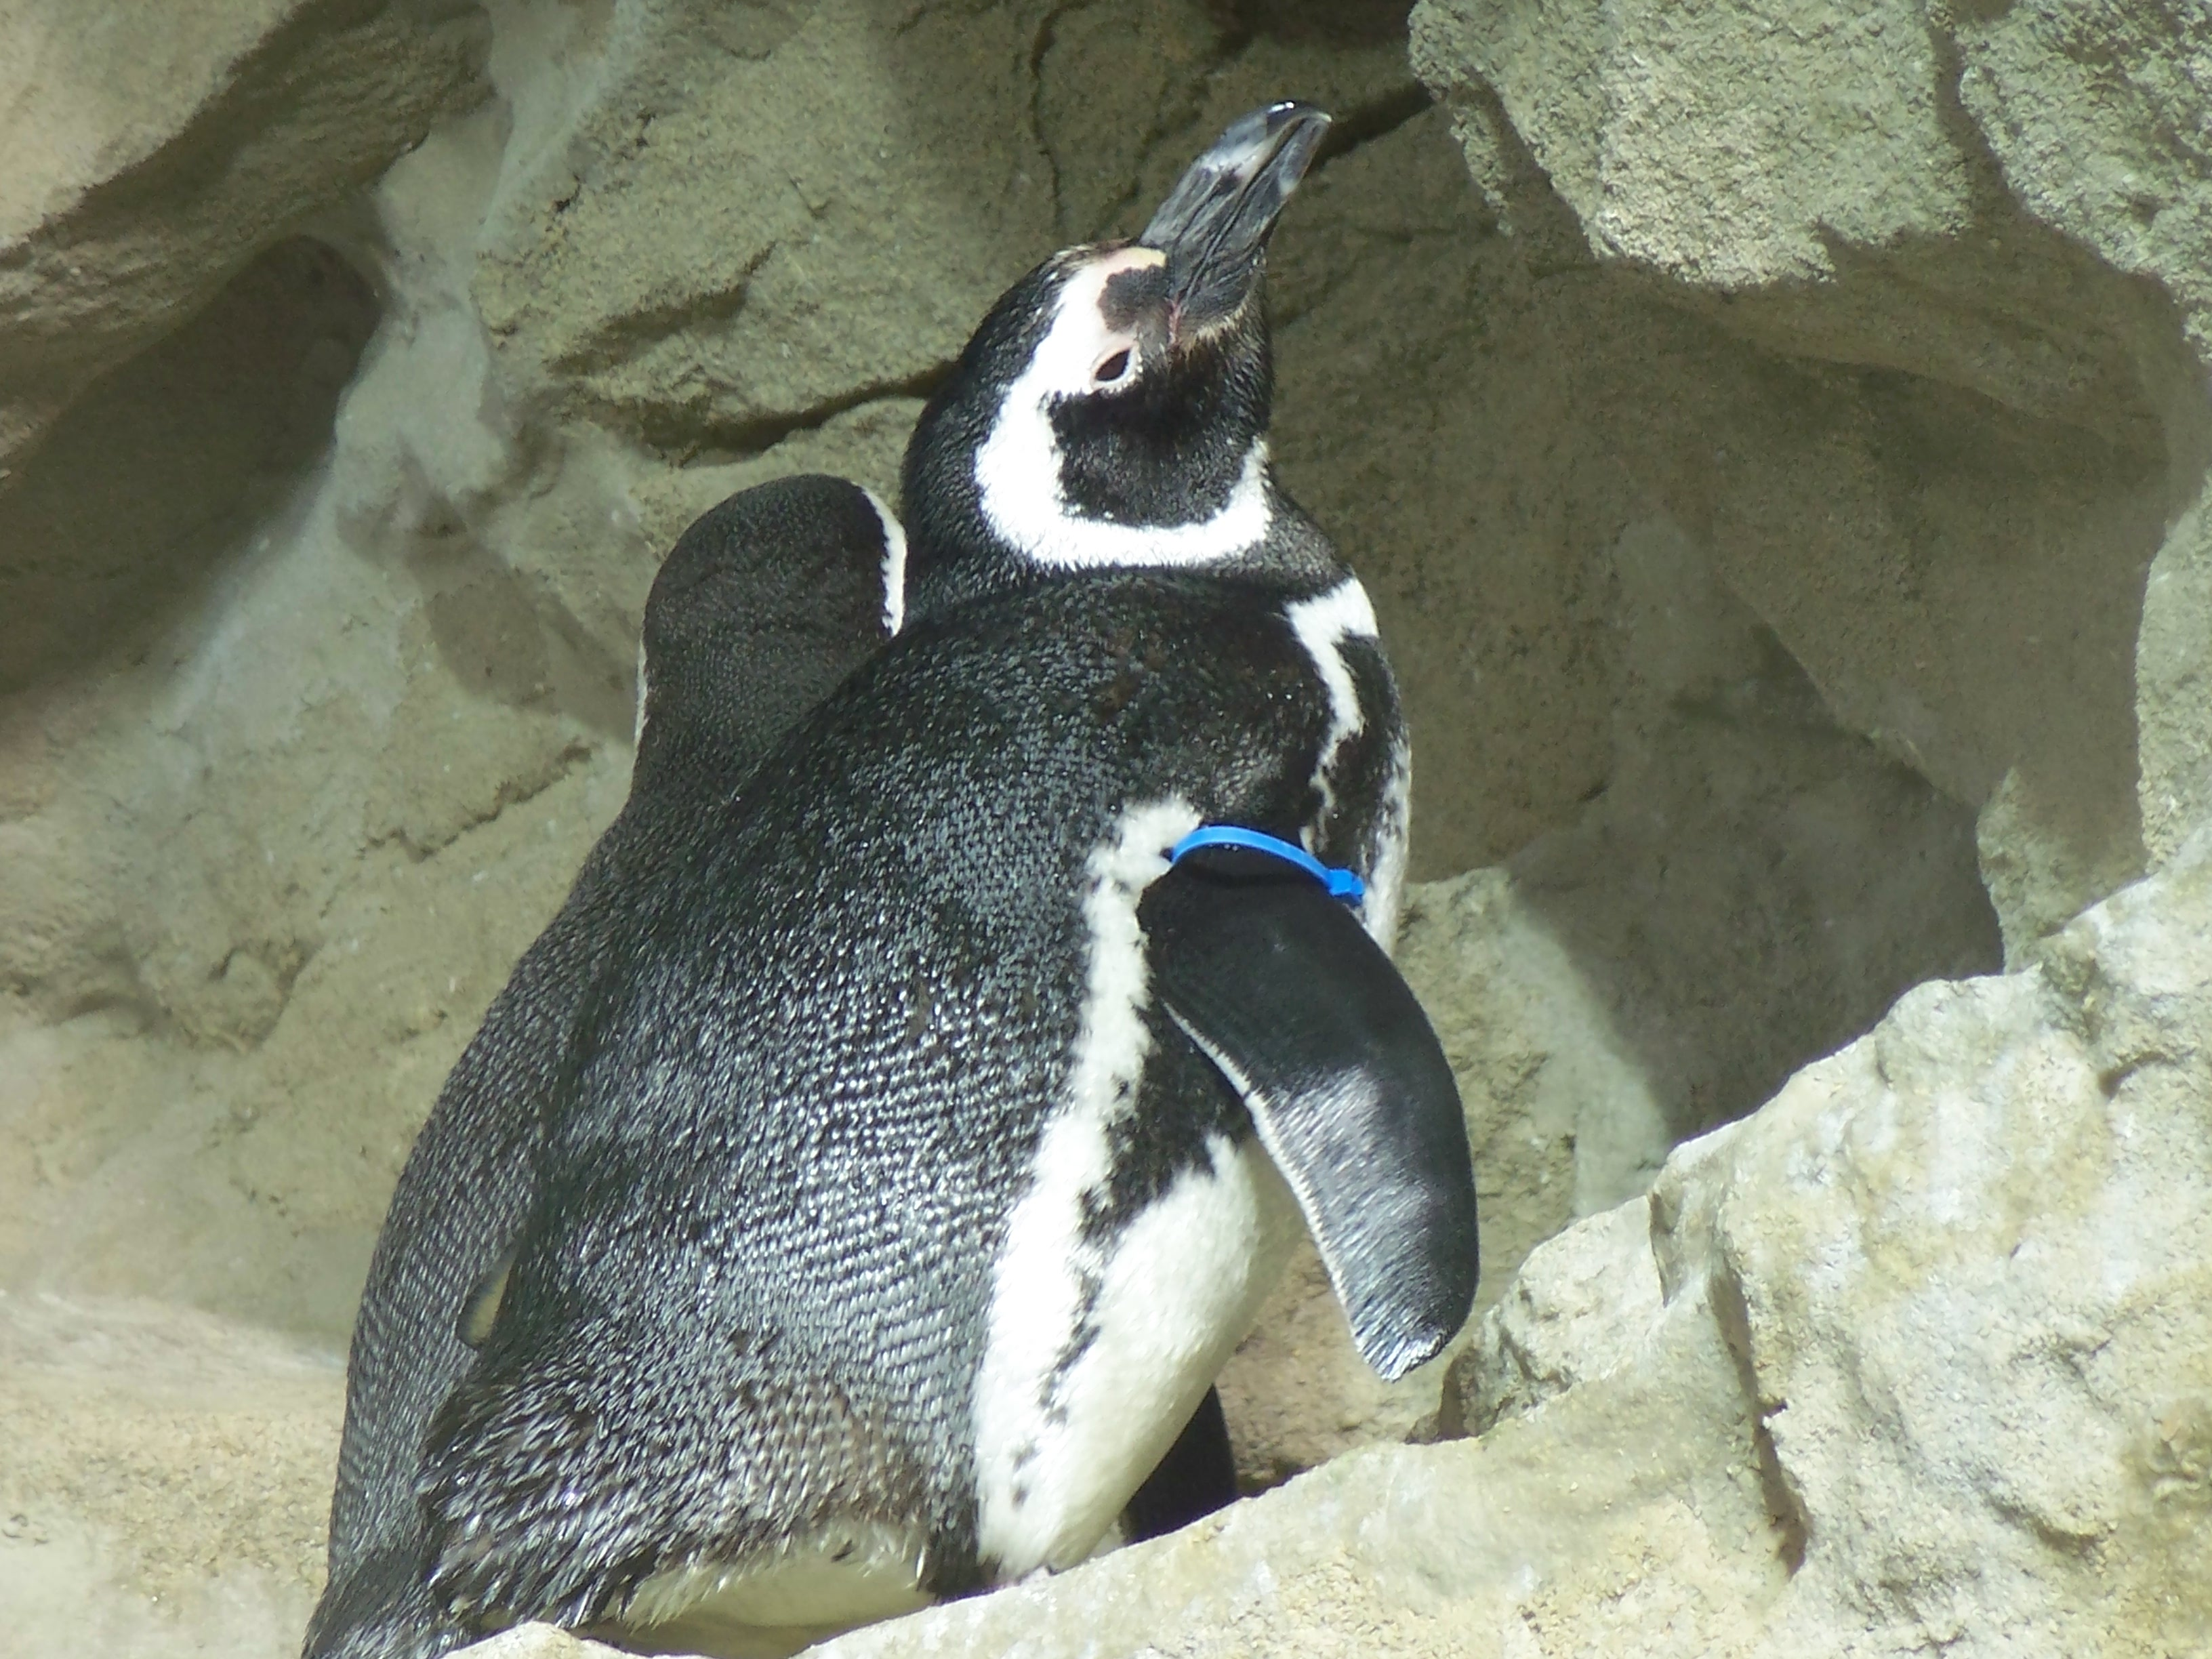penguin: (578, 105, 1479, 1633)
